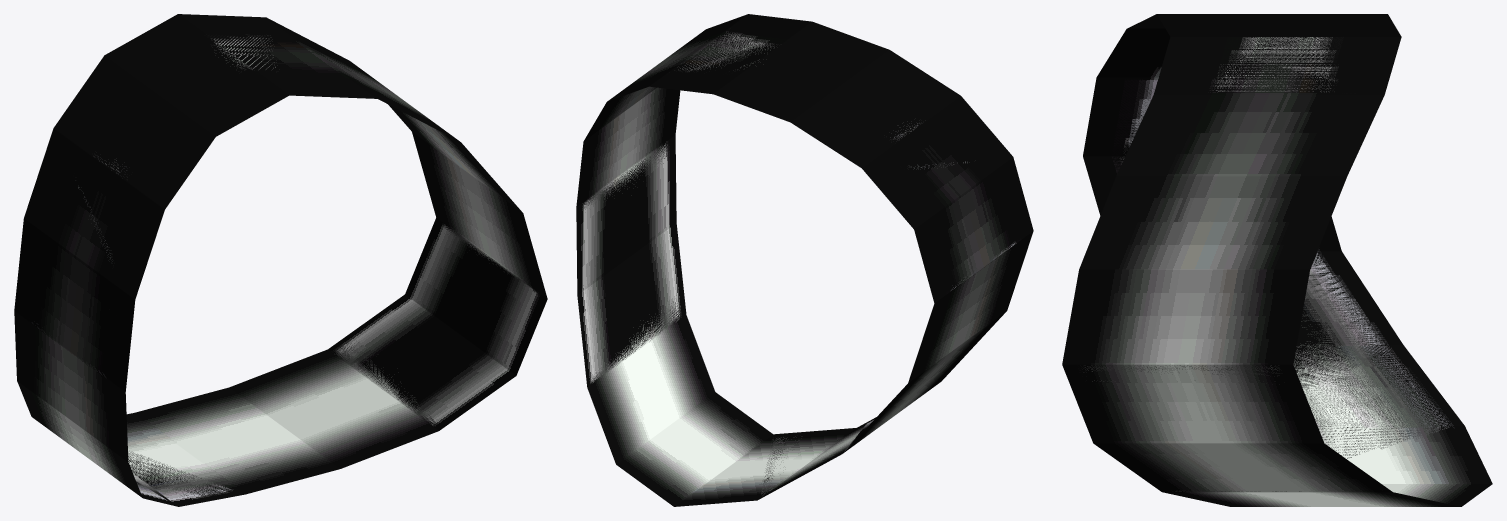
The model's file is tx_priest_shengminghuifu_fire_01.obj.
3 views of the same model, side by side, from view 1: azimuth 30°, elevation 25°; view 2: azimuth 150°, elevation 25°; view 3: azimuth 270°, elevation 25° (orthographic). The views are drawn at different scales.
Parts seen in each view (by area): view 1: Circle01, Circle02; view 2: Circle01, Circle02; view 3: Circle01, Circle02.
Boxes of the visible parts, left/top/right/bottom form: Circle01: left=14, top=14, right=547, bottom=506; Circle02: left=14, top=14, right=546, bottom=506; Circle01: left=576, top=14, right=1033, bottom=506; Circle02: left=576, top=15, right=1032, bottom=493; Circle01: left=1062, top=14, right=1492, bottom=506; Circle02: left=1064, top=14, right=1459, bottom=491.
Bounding box in the file's own units: 54.65 × 54.65 × 47.72.
2 materials, 2 textured.
